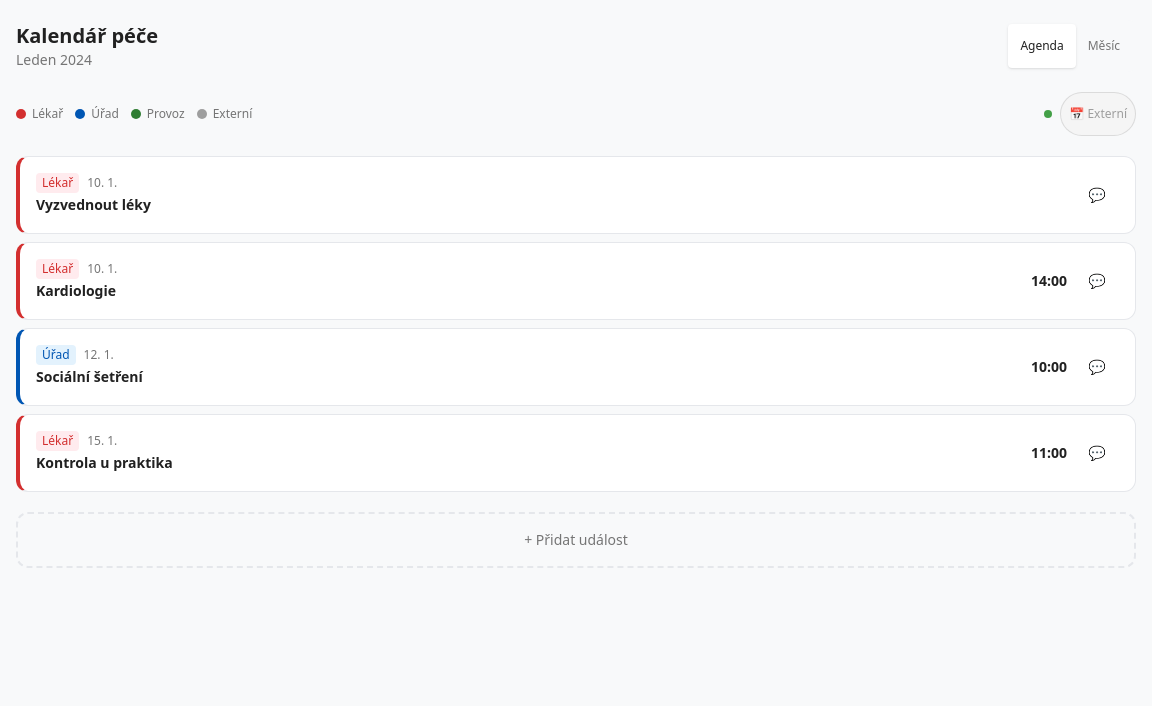
Test: UAT 3.1: Selektivní synchronizace externích událostí › Po zapnutí toggle se zobrazí externí události s odlišným stylem
# Zapni toggle
Click the button "📅 Externí" at (1098, 114), box [1060, 92, 1136, 136]
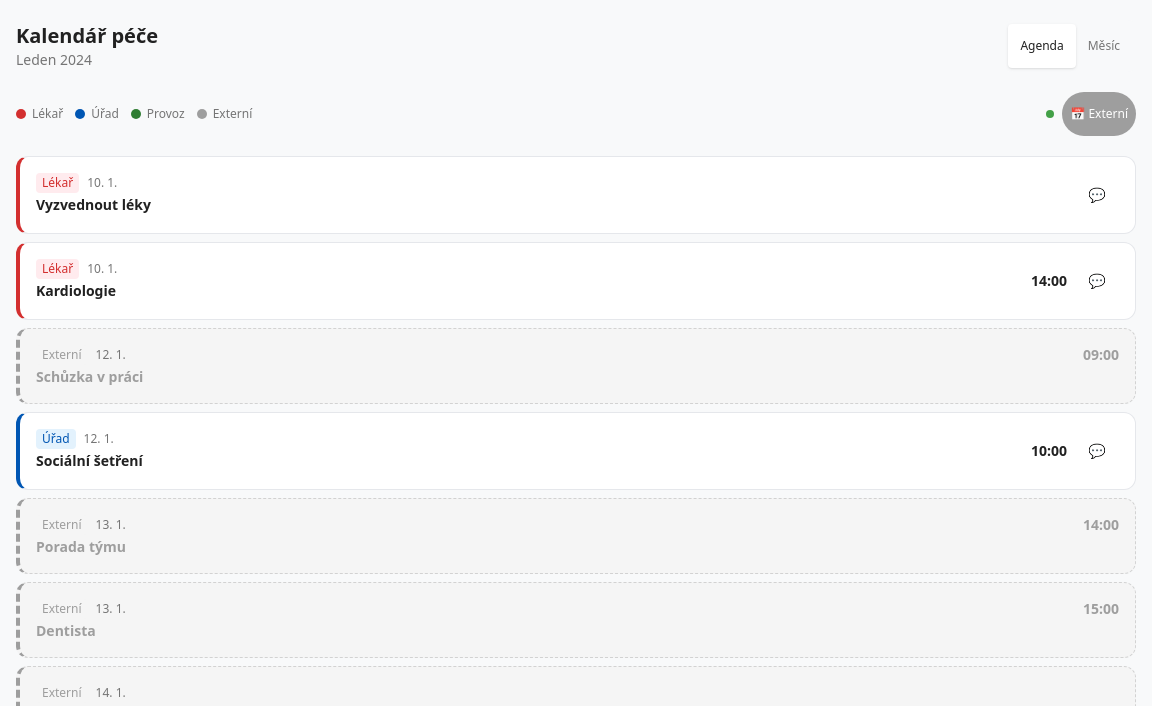
Check: the heading "Schůzka v práci" is shown, box [36, 367, 143, 386]
Check: the heading "Dentista" is shown, box [36, 621, 96, 640]
Check: the element showing "Externí 12. 1. Schůzka v práci 09:00" is shown, box [16, 328, 1136, 404]
